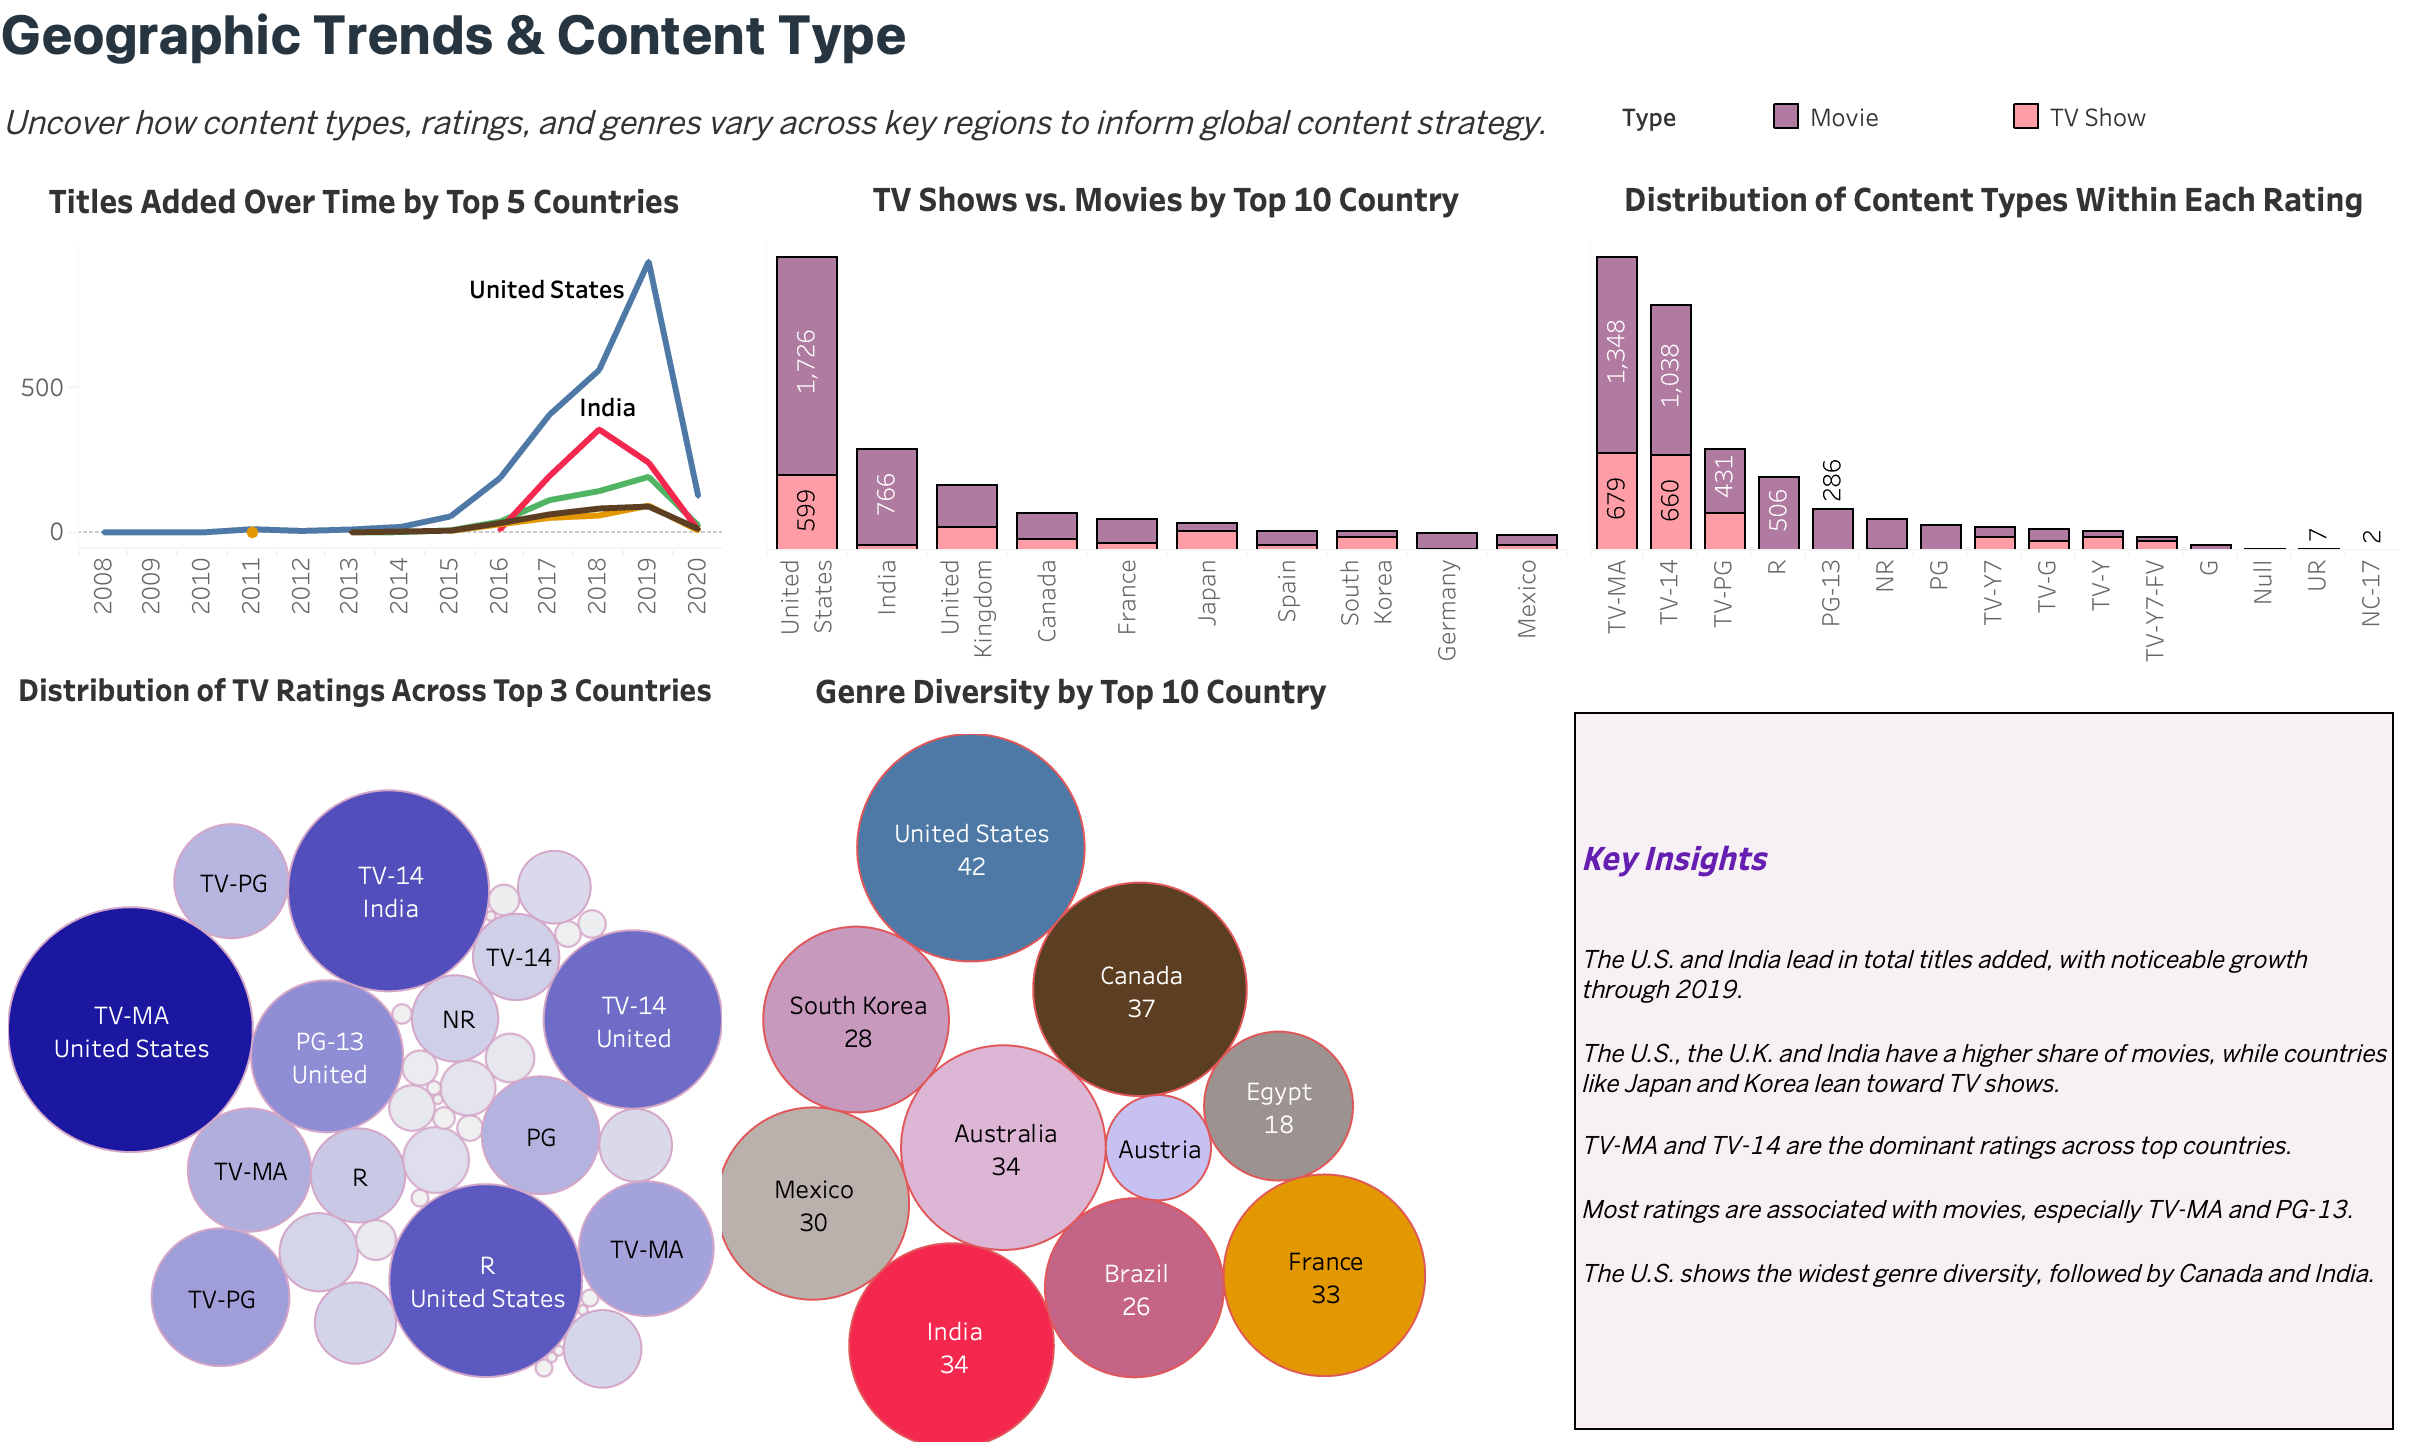

The dashboard page shown, as its layout file describes it:
{"tool":"tableau","page":{"name":"Dashboard 2","canvas":[1000,1000],"units":"permille","ordinal":1},"visuals":[{"type":"text","box":[3.3,9.2,391,86.9]},{"type":"text","box":[4.1,91.5,691.8,41.2]},{"type":"legend","title":"Distribution of Content Types Within Each Rating","param":"[federated.110b1el1jmqzdr139iwak1e4xaev].[none:type:nk]","box":[669.7,94.5,290.2,39.6]},{"type":"worksheet","title":"TV Shows vs. Movies by Country","mark":"Automatic","rows":["title"],"cols":["country"],"box":[318.9,141.8,331.2,332.3]},{"type":"worksheet","title":"Distribution of Content Types Within Each Rating","mark":"Automatic","rows":["title"],"cols":["rating"],"box":[656.6,141.8,331.2,332.3]},{"type":"worksheet","title":"Titles Added Over Time by Top 5 Countries","mark":"Line","rows":["title"],"cols":["date_added"],"box":[7.4,143.3,293.4,303.4]},{"type":"text","box":[195.1,208.8,67.2,25.9]},{"type":"text","box":[240.2,285.1,31.2,29]},{"type":"worksheet","title":"Distribution of TV Ratings Across Countries","mark":"Circle","box":[8.2,468,292.6,529]},{"type":"worksheet","title":"Genre Diversity by Country","mark":"Circle","box":[297.5,468,292.6,529]},{"type":"text","box":[650,503.1,336.1,475.6]}]}

Visuals, with their boxes on the dashboard's canvas, which has no fixed pixel size, in thousandths of its width and height (x1, y1, x2, y2). These are canvas units, not pixel positions in the 2414x1442 screenshot, which may show the page scaled, cropped or inside an application window:
text: locate(3, 9, 394, 96)
text: locate(4, 92, 696, 133)
"Distribution of Content Types Within Each Rating" legend: locate(670, 94, 960, 134)
"TV Shows vs. Movies by Country" worksheet: locate(319, 142, 650, 474)
"Distribution of Content Types Within Each Rating" worksheet: locate(657, 142, 988, 474)
"Titles Added Over Time by Top 5 Countries" worksheet (Line marks): locate(7, 143, 301, 447)
text: locate(195, 209, 262, 235)
text: locate(240, 285, 271, 314)
"Distribution of TV Ratings Across Countries" worksheet (Circle marks): locate(8, 468, 301, 997)
"Genre Diversity by Country" worksheet (Circle marks): locate(298, 468, 590, 997)
text: locate(650, 503, 986, 979)
